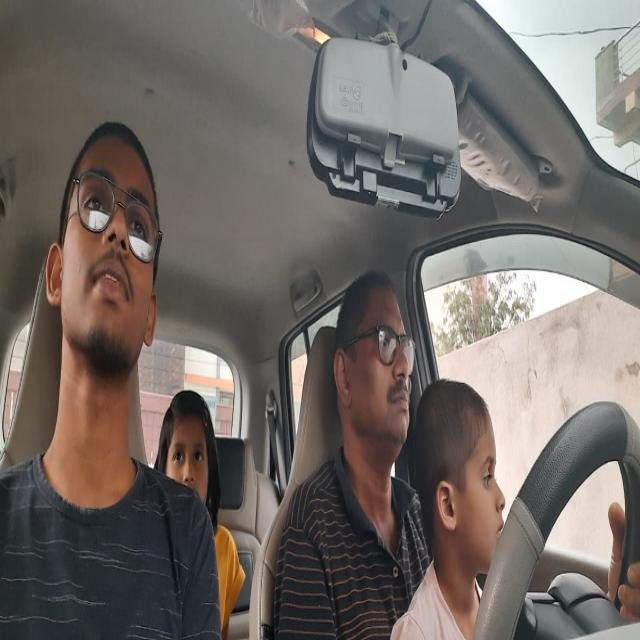child: (412, 380, 511, 569)
person: (45, 106, 167, 384), (333, 258, 417, 457), (156, 388, 218, 513)
